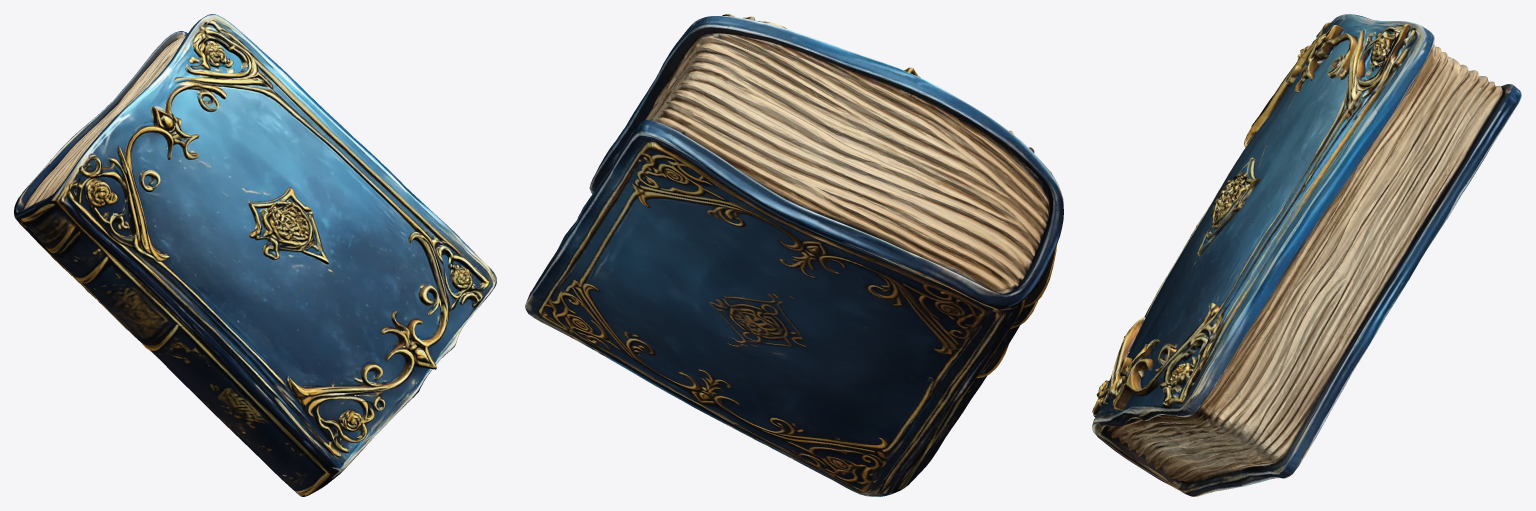
The model's file is tome-others.glb.
3 renders of one model, left to right at view 1: azimuth 30°, elevation 25°; view 2: azimuth 150°, elevation 25°; view 3: azimuth 270°, elevation 25°, orthographic. The views are drawn at different scales.
Visible parts, largest first — view 1: tmpymj8h8ou.obj; view 2: tmpymj8h8ou.obj; view 3: tmpymj8h8ou.obj.
Part boxes in pixels (box(x1,y1,x2,y2)): tmpymj8h8ou.obj: box(14, 14, 496, 496); tmpymj8h8ou.obj: box(525, 14, 1063, 496); tmpymj8h8ou.obj: box(1092, 14, 1521, 496).
Bounding box in the file's own units: 1.8 × 1.76 × 1.47.
1 material, 1 textured.
